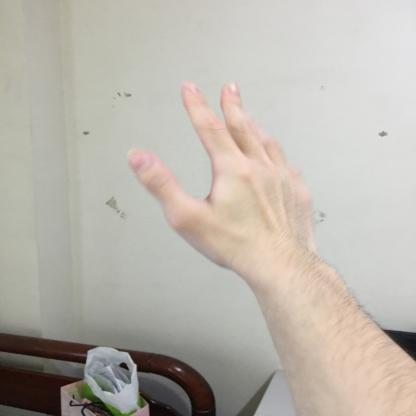bare_hand: (121, 72, 332, 296)
